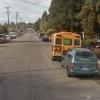Car: (54, 44, 100, 83)
